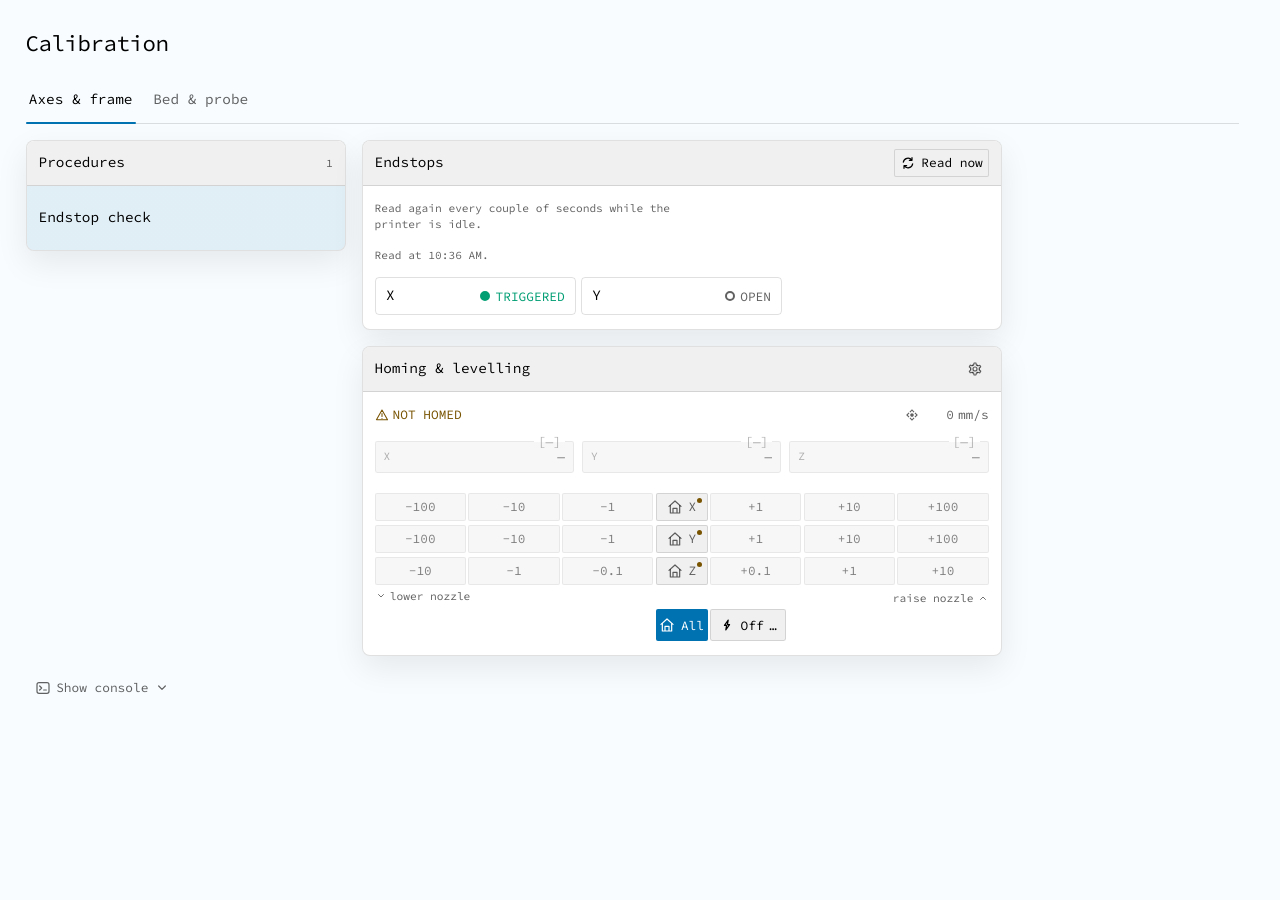
Test: Calibration view › shows only the selected stage and marks its tab pressed
The image size is (1280, 900).
Click the button with class "tab-select" showing "Bed & probe" at (201, 100), box [150,78,251,123]
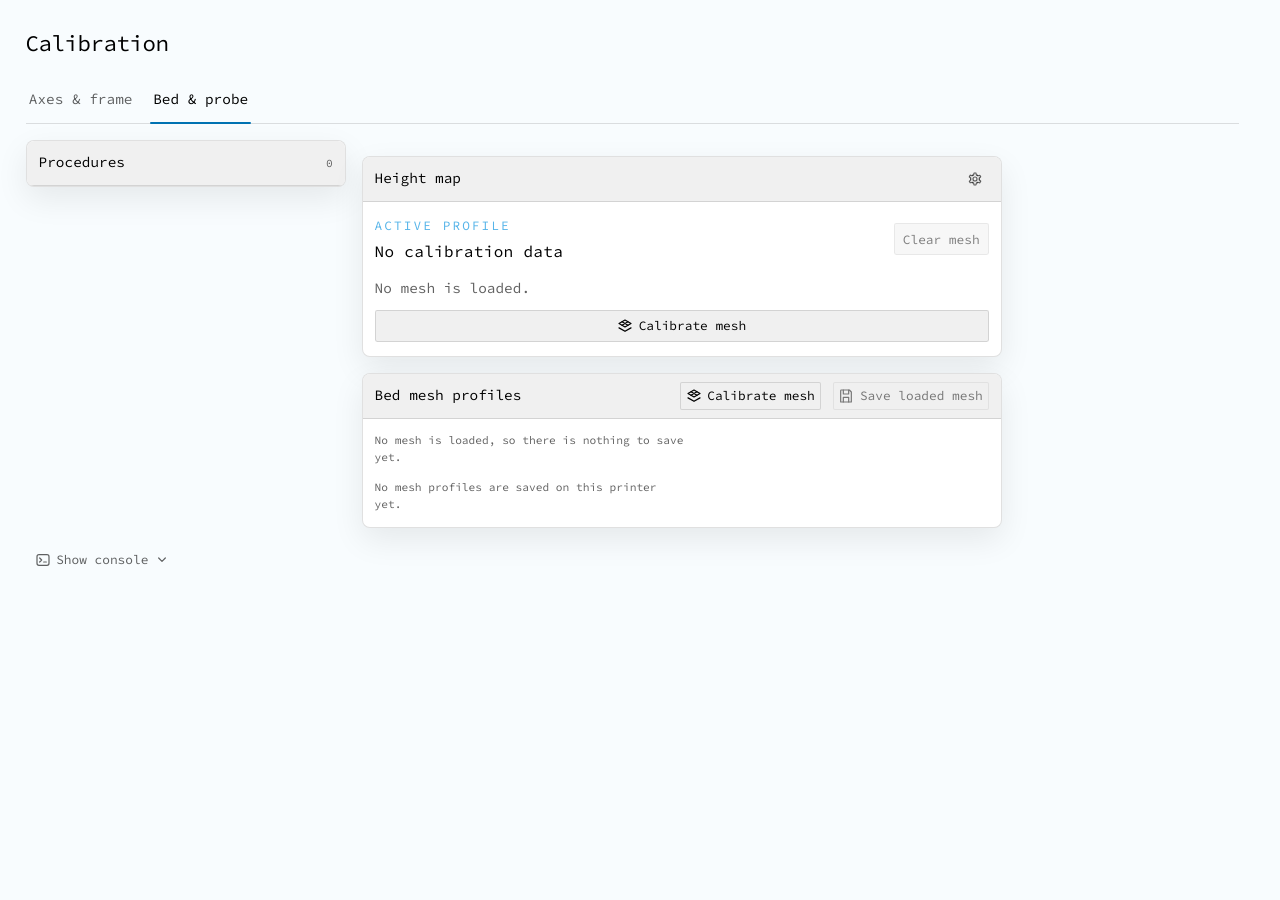
Now the text "Bed mesh profiles" is shown, box [375,385,521,406]
Now the text "Endstops" is gone
